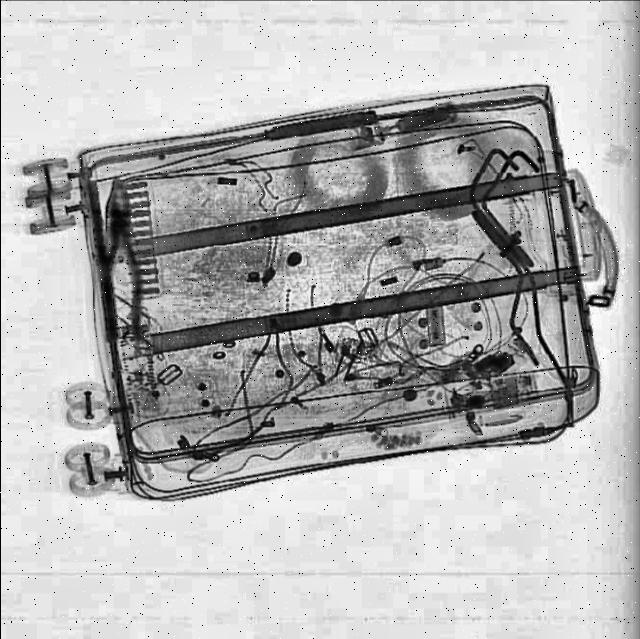Pliers: (95, 176, 147, 344)
